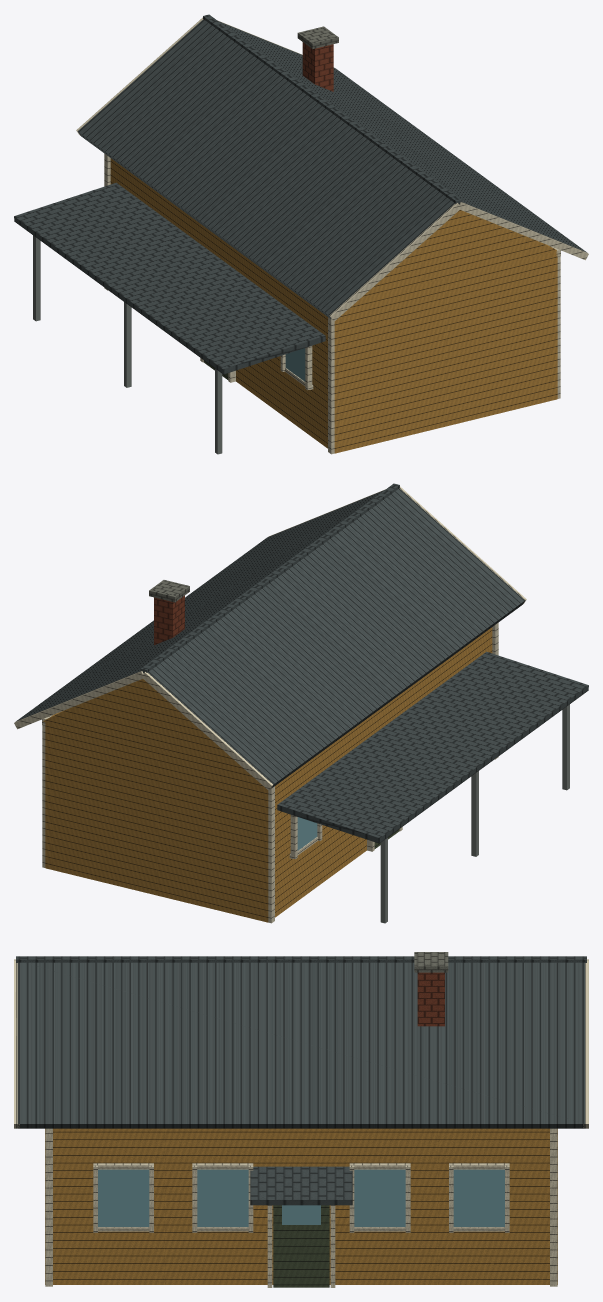
Rendered from norway-station_lod1.glb.
3 renders of one model, top to bottom at view 1: azimuth 30°, elevation 25°; view 2: azimuth 150°, elevation 25°; view 3: azimuth 270°, elevation 25°, orthographic. The views are drawn at different scales.
Parts seen in each view (by area): view 1: RF_Station_Roof-1, RF_Station_Body, RF_Station_Canopy, RF_Station_Roof1, RF_Station_Gable.001, RF_Station_Ridge, RF_Station_Vergeband.001, RF_Station_Chimney, RF_Station_Vergeband.003, RF_Station_Corner.001, RF_Station_Post, RF_Station_Post.001 (+3 smaller); view 2: RF_Station_Roof-1, RF_Station_Body, RF_Station_Canopy, RF_Station_Roof1, RF_Station_Gable, RF_Station_Ridge, RF_Station_Vergeband.002, RF_Station_Chimney, RF_Station_Vergeband, RF_Station_Corner.002, RF_Station_Post.001, RF_Station_Post.002 (+3 smaller); view 3: RF_Station_Roof1, RF_Station_Body, RF_Station_PublicAwning, RF_Station_Door, RF_Station_Ridge, RF_Station_Window.006, RF_Station_Window.007, RF_Station_Window.005, RF_Station_Window, RF_Station_Chimney, RF_Station_Corner.003, RF_Station_Corner (+6 smaller).
Part boxes in pixels (x1,y1,x2,y2): RF_Station_Roof-1: [78, 19, 454, 318]; RF_Station_Body: [110, 158, 557, 453]; RF_Station_Canopy: [14, 182, 325, 374]; RF_Station_Roof1: [218, 21, 586, 252]; RF_Station_Gable.001: [360, 210, 556, 298]; RF_Station_Ridge: [203, 14, 462, 204]; RF_Station_Vergeband.001: [329, 203, 461, 321]; RF_Station_Chimney: [302, 42, 333, 91]; RF_Station_Vergeband.003: [459, 202, 588, 260]; RF_Station_Corner.001: [328, 317, 334, 454]; RF_Station_Post: [33, 235, 40, 321]; RF_Station_Post.001: [215, 368, 222, 454]; RF_Station_Roof-1: [148, 488, 524, 787]; RF_Station_Body: [45, 627, 492, 922]; RF_Station_Canopy: [277, 651, 588, 843]; RF_Station_Roof1: [16, 490, 384, 721]; RF_Station_Gable: [43, 679, 246, 771]; RF_Station_Ridge: [140, 483, 399, 673]; RF_Station_Vergeband.002: [141, 672, 273, 790]; RF_Station_Chimney: [154, 595, 184, 645]; RF_Station_Vergeband: [14, 671, 143, 729]; RF_Station_Corner.002: [268, 786, 274, 923]; RF_Station_Post.001: [562, 704, 569, 790]; RF_Station_Post.002: [471, 771, 478, 856]; RF_Station_Roof1: [17, 962, 585, 1128]; RF_Station_Body: [45, 1128, 557, 1284]; RF_Station_PublicAwning: [250, 1166, 352, 1205]; RF_Station_Door: [273, 1205, 329, 1287]; RF_Station_Ridge: [16, 956, 586, 962]; RF_Station_Window.006: [197, 1169, 248, 1226]; RF_Station_Window.007: [354, 1169, 405, 1226]; RF_Station_Window.005: [98, 1169, 149, 1226]; RF_Station_Window: [453, 1169, 504, 1226]; RF_Station_Chimney: [417, 972, 444, 1026]; RF_Station_Corner.003: [45, 1128, 52, 1286]; RF_Station_Corner: [550, 1128, 557, 1286].
Size of the model in its own units: 14.23 by 9.3 by 16.82.
Materials: 8 (6 with a texture image).
